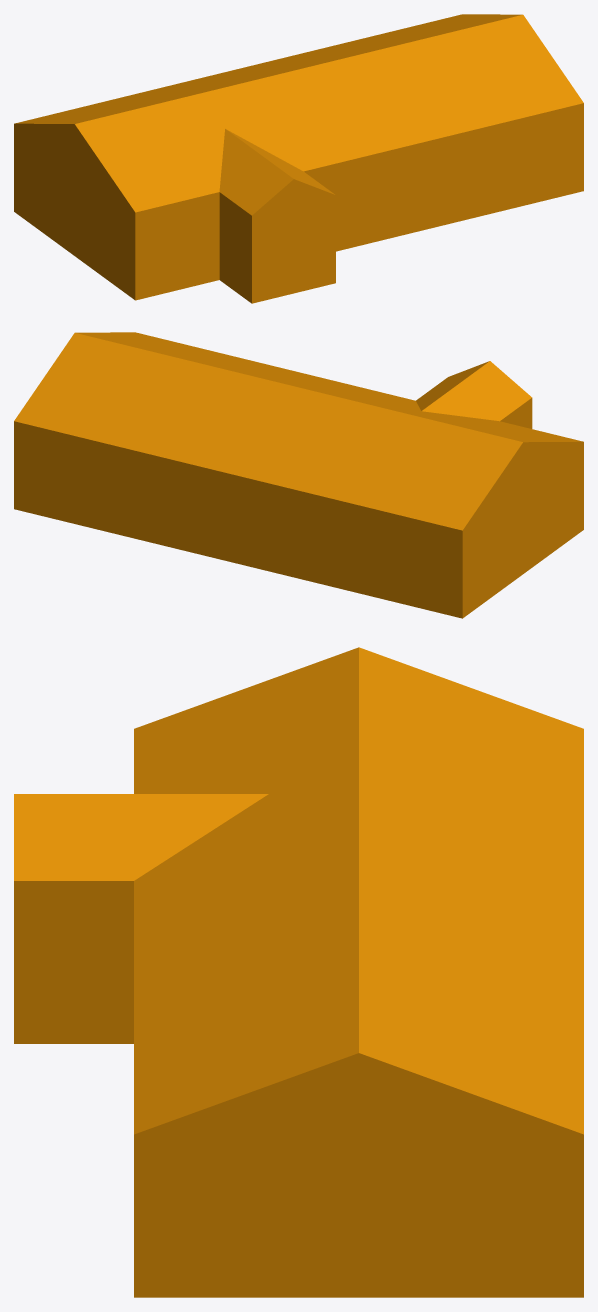
Rendered from MediumHouse.glb.
The picture shows the model from 3 angles, top to bottom: view 1: azimuth 30°, elevation 25°; view 2: azimuth 150°, elevation 25°; view 3: azimuth 270°, elevation 25°; orthographic projection. The views are drawn at different scales.
Visible parts, largest first — view 1: FrontPorch; view 2: FrontPorch; view 3: FrontPorch.
Boxes of the visible parts, box(x1,y1,x2,y2) form: FrontPorch: box(14, 14, 583, 303); FrontPorch: box(14, 332, 583, 618); FrontPorch: box(14, 647, 583, 1297).
Size of the model in its own units: 16 by 4.5 by 9.5.
